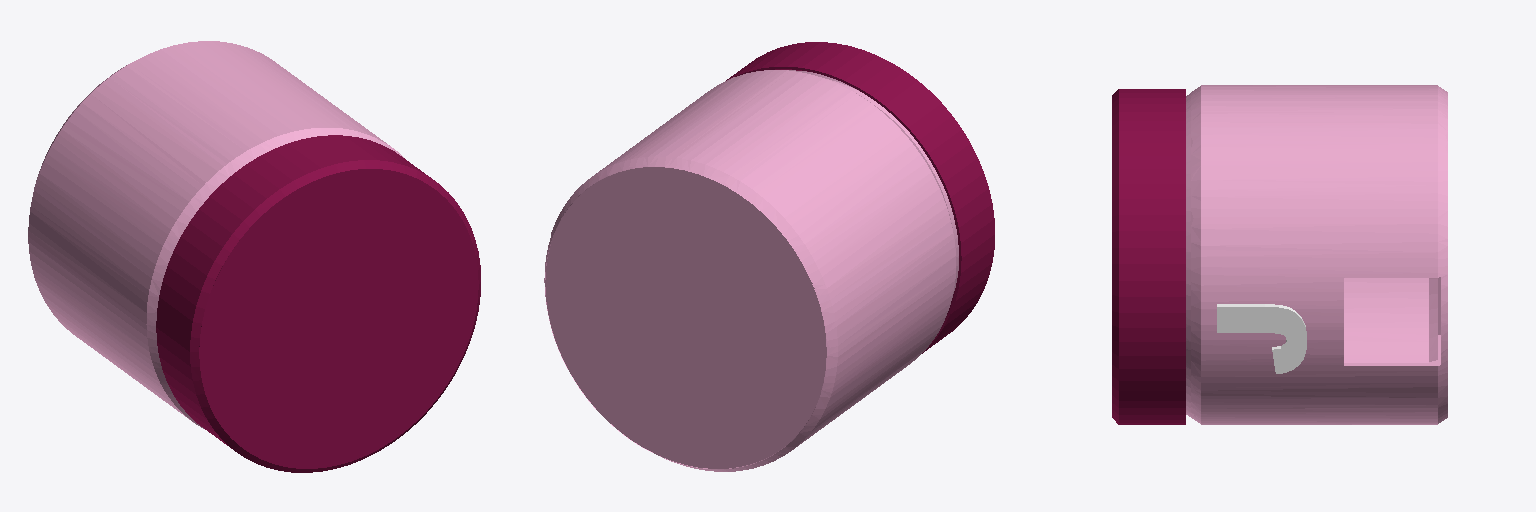
File: tinker.obj
3 renders of one model, left to right at view 1: azimuth 30°, elevation 25°; view 2: azimuth 150°, elevation 25°; view 3: azimuth 270°, elevation 25°, orthographic.
Visible parts, largest first — view 1: obj_0; view 2: obj_0; view 3: obj_0.
Part boxes in pixels (left/top/right/bottom): obj_0: left=28, top=41, right=480, bottom=472; obj_0: left=544, top=42, right=994, bottom=471; obj_0: left=1112, top=85, right=1447, bottom=424.
Size of the model in its own units: 70.96 by 70 by 69.28.